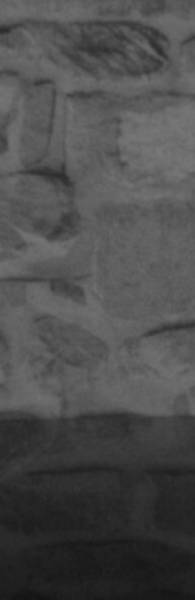water: (0, 418, 195, 600)
